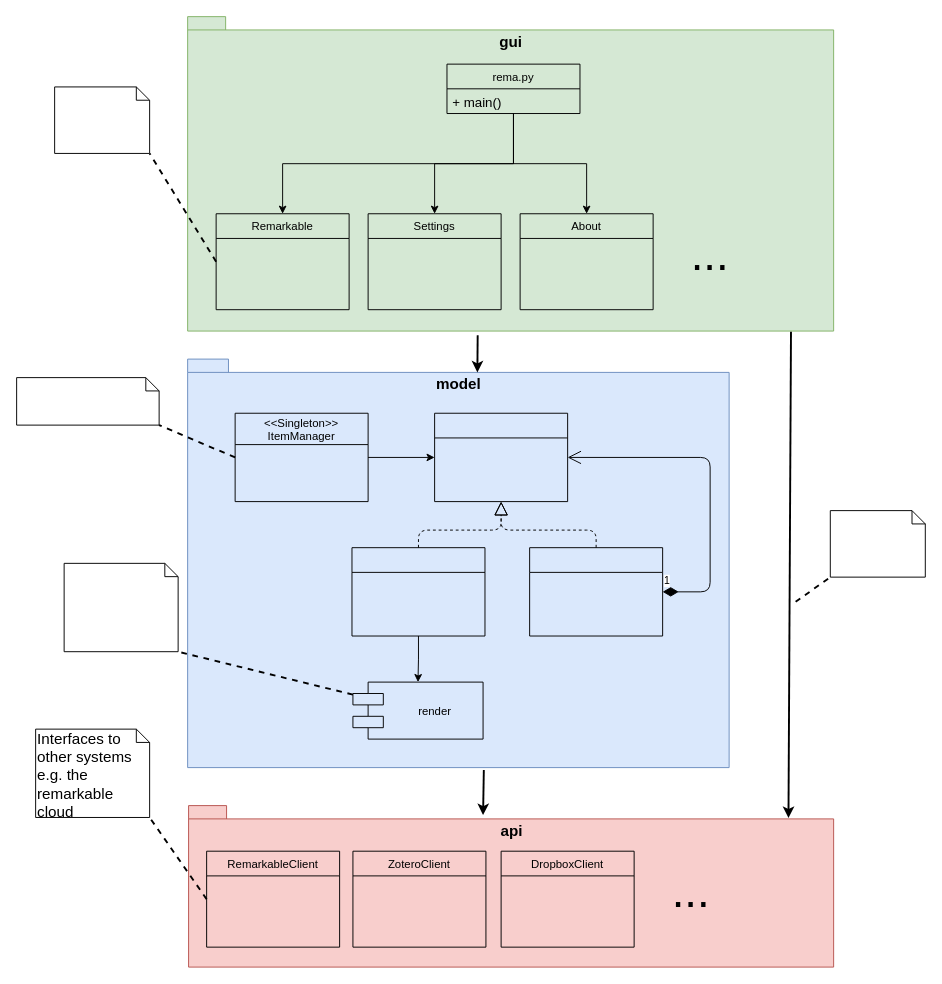
Some shapes in this 942 by 984 pixel diagram are drawn without their labels. The shapes that lost their labels are listed below. From the top down, each one's centre as x and y in pixels, then its label:
At point (102, 119): "Single tabs inside the application".
At point (87, 401): "Manage document tree (get, add, del.)".
At point (501, 457): "Item".
At point (877, 543): "Subscribe to login events etc.".
At point (120, 607): "Rendering of annotations for pdf, notebooks etc.".
At point (418, 591): "Document".
At point (596, 591): "Collection".
